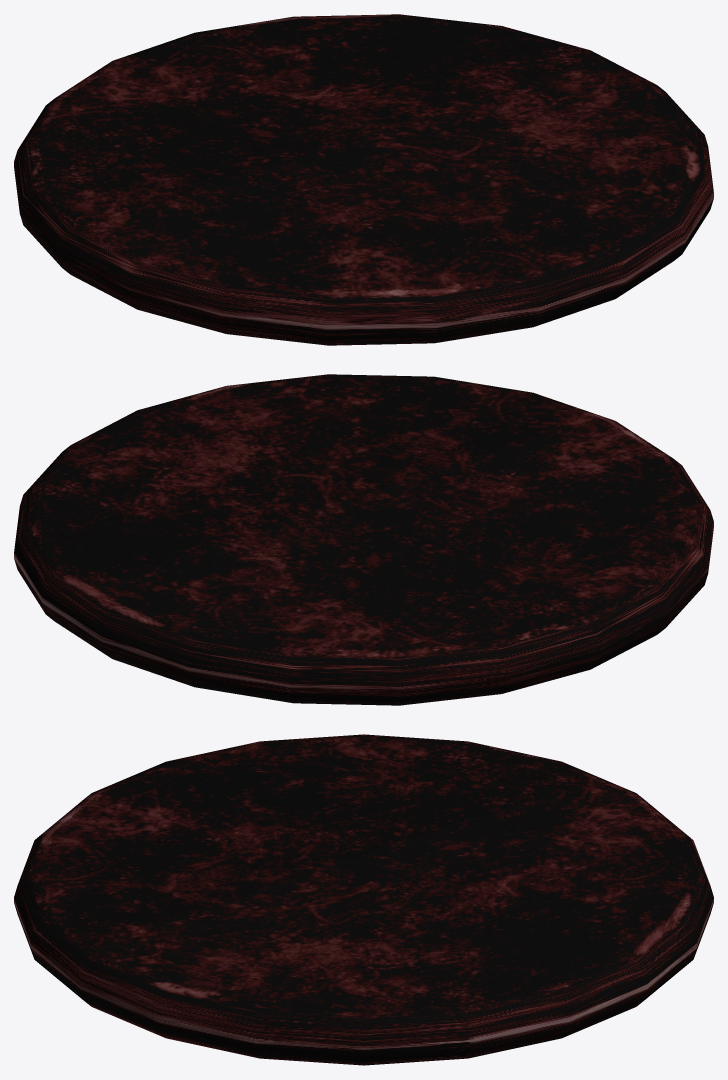
The model's file is BoLiYuanKuai_Red.fbx.
3 renders of one model, top to bottom at view 1: azimuth 30°, elevation 25°; view 2: azimuth 150°, elevation 25°; view 3: azimuth 270°, elevation 25°, orthographic.
Visible parts, largest first — view 1: BoLiYuanKuai_Red; view 2: BoLiYuanKuai_Red; view 3: BoLiYuanKuai_Red.
Part boxes in pixels (left/top/right/bottom): BoLiYuanKuai_Red: left=14, top=14, right=713, bottom=345; BoLiYuanKuai_Red: left=14, top=374, right=713, bottom=705; BoLiYuanKuai_Red: left=14, top=734, right=713, bottom=1065.
Size of the model in its own units: 12 by 1 by 12.
Materials: 1 (1 with a texture image).
